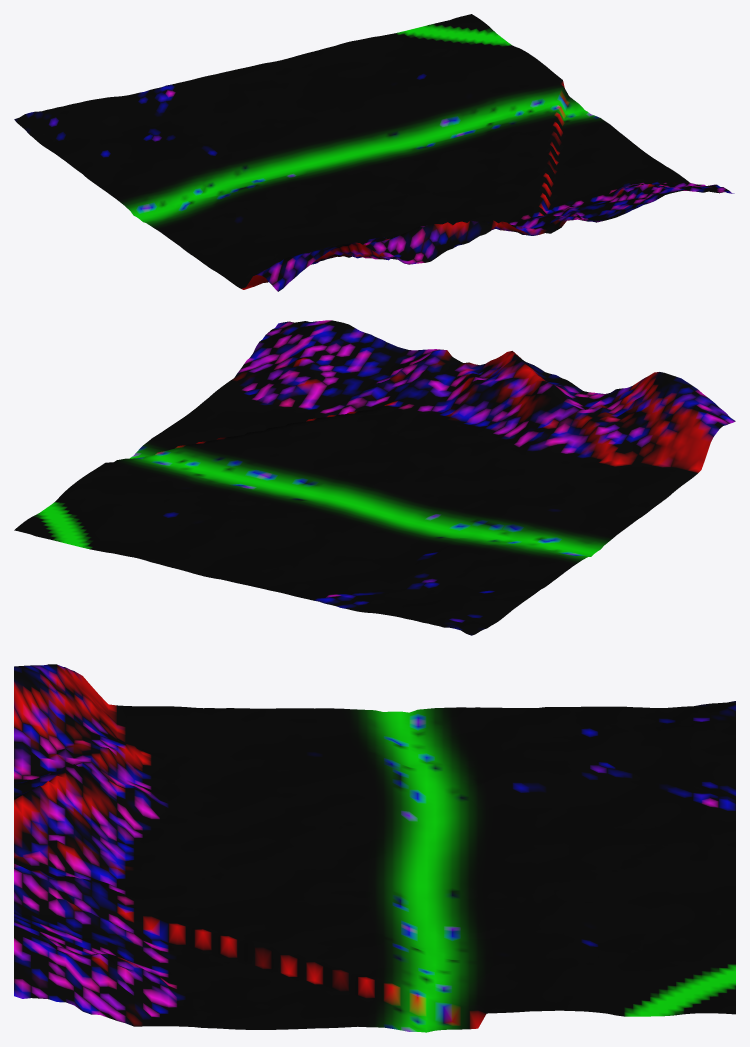
Rendered from SM_AsirMountains_Terrain_0_0.fbx.
3 renders of one model, top to bottom at view 1: azimuth 30°, elevation 25°; view 2: azimuth 150°, elevation 25°; view 3: azimuth 270°, elevation 25°, orthographic. The views are drawn at different scales.
Parts seen in each view (by area): view 1: SM_AsirMountains_Terrain_0_0; view 2: SM_AsirMountains_Terrain_0_0; view 3: SM_AsirMountains_Terrain_0_0.
Part boxes in pixels (x1=…): SM_AsirMountains_Terrain_0_0: x1=14, y1=14, x2=734, y2=291; SM_AsirMountains_Terrain_0_0: x1=14, y1=320, x2=735, y2=635; SM_AsirMountains_Terrain_0_0: x1=14, y1=664, x2=735, y2=1032.
Bounding box in the file's own units: 50400 × 7575 × 50400.
